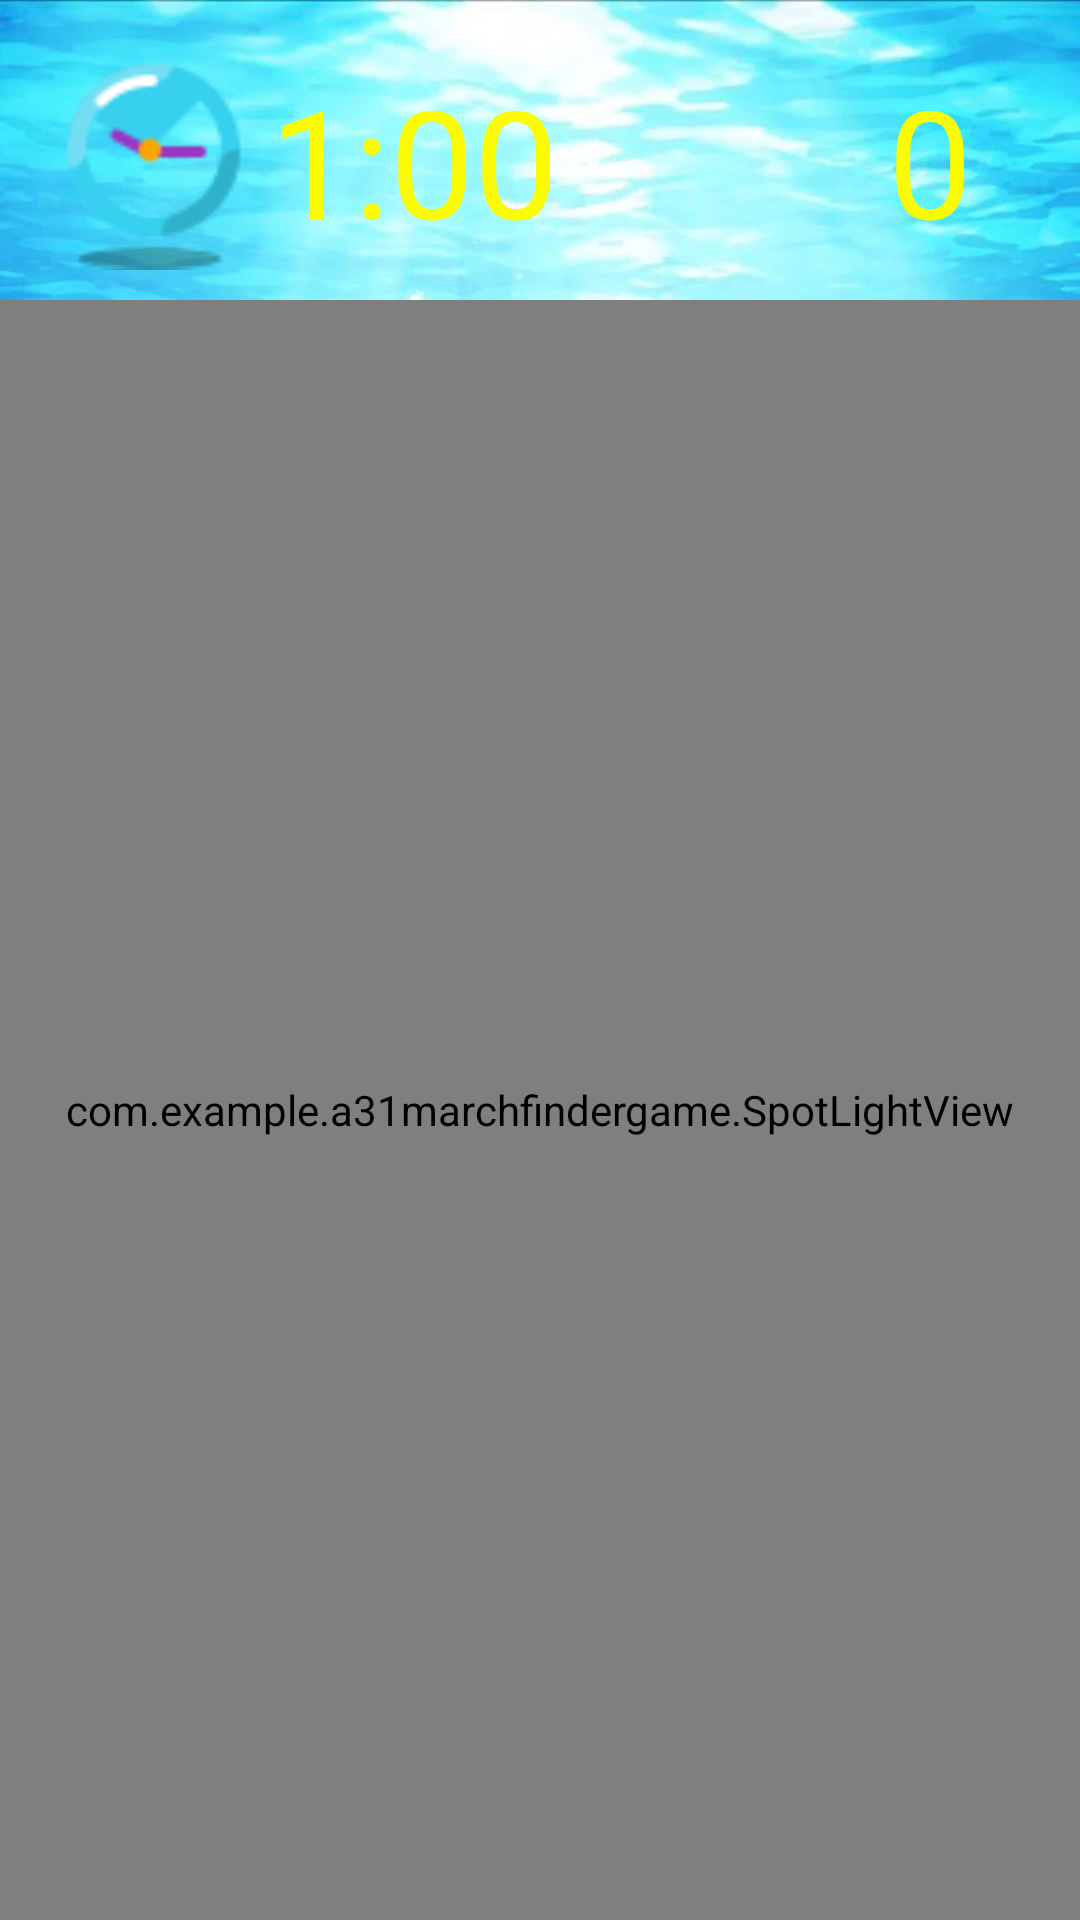

Named icons in this screenshot (1080 × 1920) and their centers, (x=x, y=y):
timer: (x=150, y=150)
